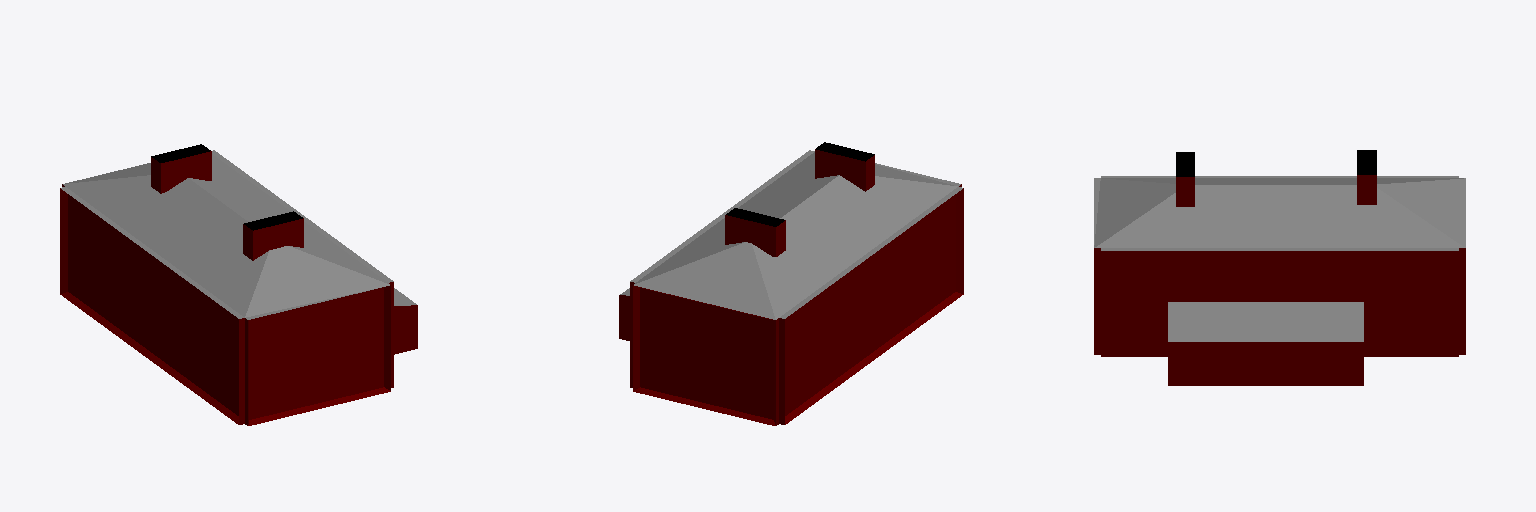
Rendered from shelbyb.obj.
3 views of the same model, side by side, from view 1: azimuth 30°, elevation 25°; view 2: azimuth 150°, elevation 25°; view 3: azimuth 270°, elevation 25° (orthographic).
Visible parts, largest first — view 1: SketchUp_ID2, SketchUp.001_ID10, SketchUp.006_ID46, SketchUp.007_ID52; view 2: SketchUp_ID2, SketchUp.001_ID10, SketchUp.006_ID46, SketchUp.007_ID52; view 3: SketchUp_ID2, SketchUp.001_ID10, SketchUp.003_ID26, SketchUp.006_ID46, SketchUp.007_ID52.
Part boxes in pixels (left/top/right/bottom): SketchUp_ID2: left=60, top=184, right=417, bottom=425; SketchUp.001_ID10: left=61, top=150, right=393, bottom=319; SketchUp.006_ID46: left=151, top=151, right=211, bottom=193; SketchUp.007_ID52: left=243, top=218, right=303, bottom=260; SketchUp_ID2: left=619, top=184, right=963, bottom=425; SketchUp.001_ID10: left=630, top=150, right=962, bottom=319; SketchUp.006_ID46: left=725, top=215, right=785, bottom=256; SketchUp.007_ID52: left=815, top=149, right=874, bottom=191; SketchUp_ID2: left=1094, top=248, right=1465, bottom=385; SketchUp.001_ID10: left=1094, top=176, right=1465, bottom=250; SketchUp.003_ID26: left=1168, top=302, right=1363, bottom=341; SketchUp.006_ID46: left=1357, top=175, right=1376, bottom=204; SketchUp.007_ID52: left=1176, top=177, right=1194, bottom=206.
Size of the model in its own units: 125 by 87.55 by 189.